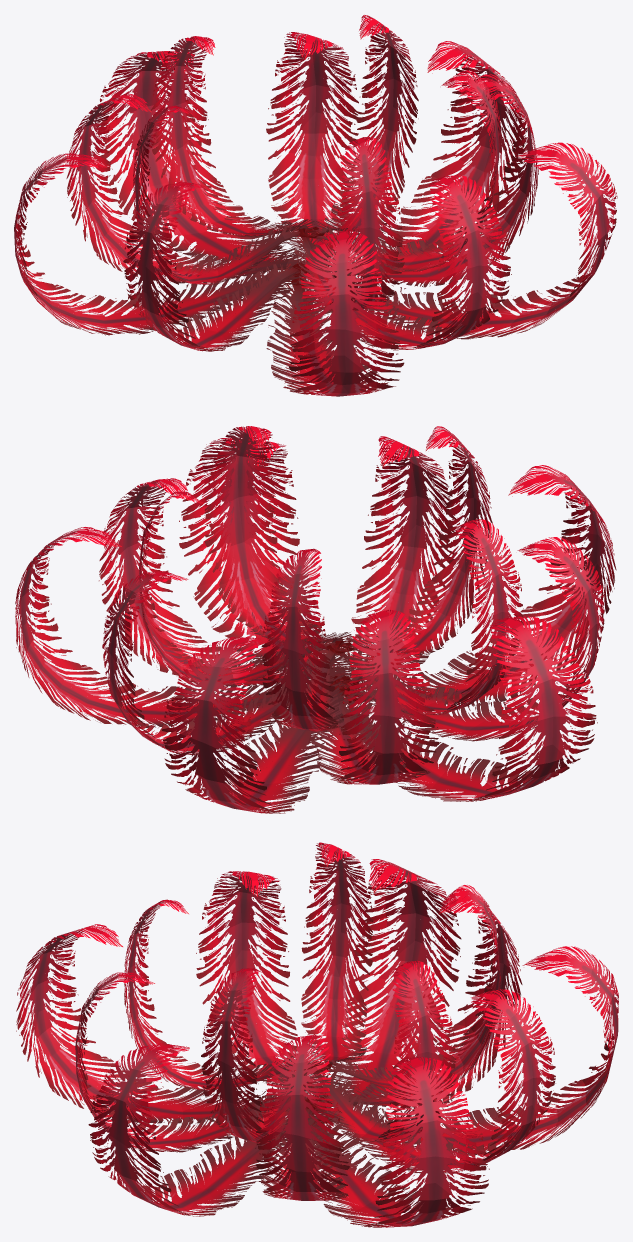
The model's file is BloodCoral.fbx.
3 renders of one model, top to bottom at view 1: azimuth 30°, elevation 25°; view 2: azimuth 150°, elevation 25°; view 3: azimuth 270°, elevation 25°, orthographic. The views are drawn at different scales.
Parts seen in each view (by area): view 1: BloodCoral1; view 2: BloodCoral1; view 3: BloodCoral1.
Boxes of the visible parts, x1,y1,x2,y2 form: BloodCoral1: [14, 15, 617, 396]; BloodCoral1: [15, 426, 616, 813]; BloodCoral1: [16, 842, 618, 1227].
Size of the model in its own units: 125 by 53.68 by 126.
1 material, 1 textured.
